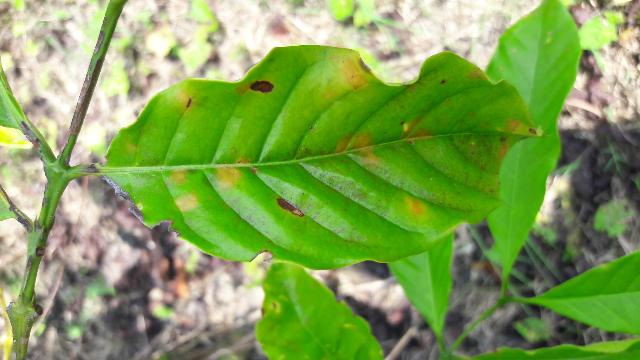rust_level_3: (106, 45, 526, 265)
